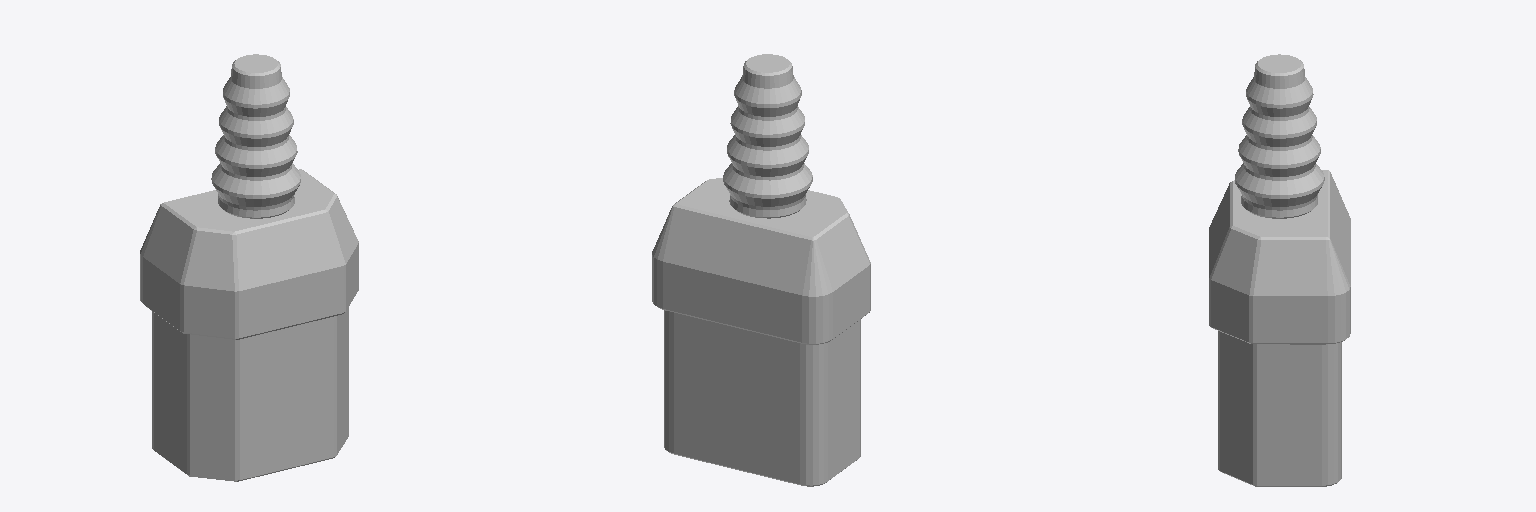
Rendered from IEC connector.obj.
3 renders of one model, left to right at view 1: azimuth 30°, elevation 25°; view 2: azimuth 150°, elevation 25°; view 3: azimuth 270°, elevation 25°, orthographic.
Parts seen in each view (by area): view 1: IEC_connector_Cylinder.010; view 2: IEC_connector_Cylinder.010; view 3: IEC_connector_Cylinder.010.
Part boxes in pixels (bbox=[...]): IEC_connector_Cylinder.010: bbox=[140, 54, 358, 481]; IEC_connector_Cylinder.010: bbox=[652, 54, 870, 486]; IEC_connector_Cylinder.010: bbox=[1209, 54, 1350, 486].
Size of the model in its own units: 0.0271 by 0.0559 by 0.0186.